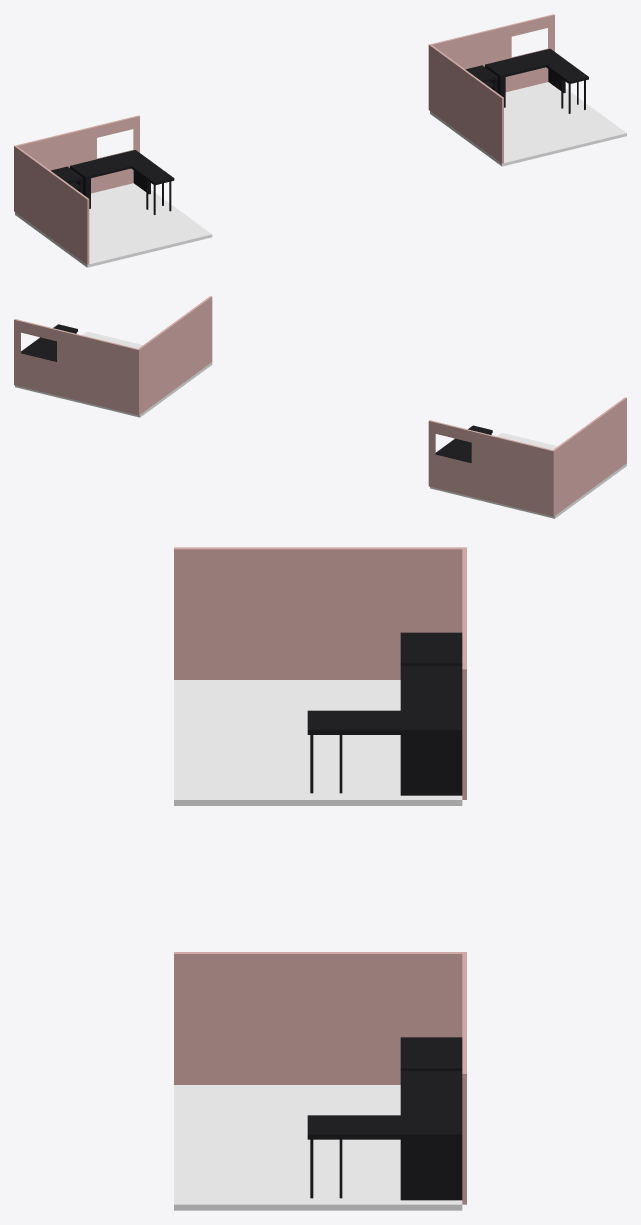
The model's file is HorribleRoom.gltf.
3 views of the same model, one above another, from view 1: azimuth 30°, elevation 25°; view 2: azimuth 150°, elevation 25°; view 3: azimuth 270°, elevation 25° (orthographic). The views are drawn at different scales.
Visible parts, largest first — view 1: Room, Floor, SideWall, FrontWall, Desk, SideDesk; view 2: Room, FrontWall, SideWall, Floor, Desk; view 3: Room, SideWall, Floor, Desk, SideDesk, FrontWall.
Part boxes in pixels (x1,y1,x2,y2): Room: (14,115,212,267); Floor: (430,82,626,166); SideWall: (430,45,503,163); FrontWall: (428,14,554,110); Desk: (485,48,588,113); SideDesk: (465,65,497,92); Room: (428,397,626,518); FrontWall: (14,319,139,415); SideWall: (138,296,212,414); Floor: (15,331,212,417); Desk: (21,324,77,361); Room: (174,547,466,805); SideWall: (174,952,462,1084); Floor: (174,1085,462,1210); Desk: (307,1071,462,1200); SideDesk: (400,1037,462,1070); FrontWall: (462,952,466,1204).
Bounding box in the file's own units: 17.28 × 2.09 × 4.07.
